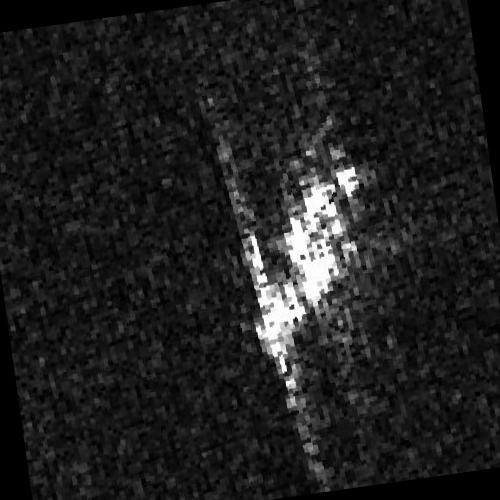ship: (253, 167, 359, 361)
